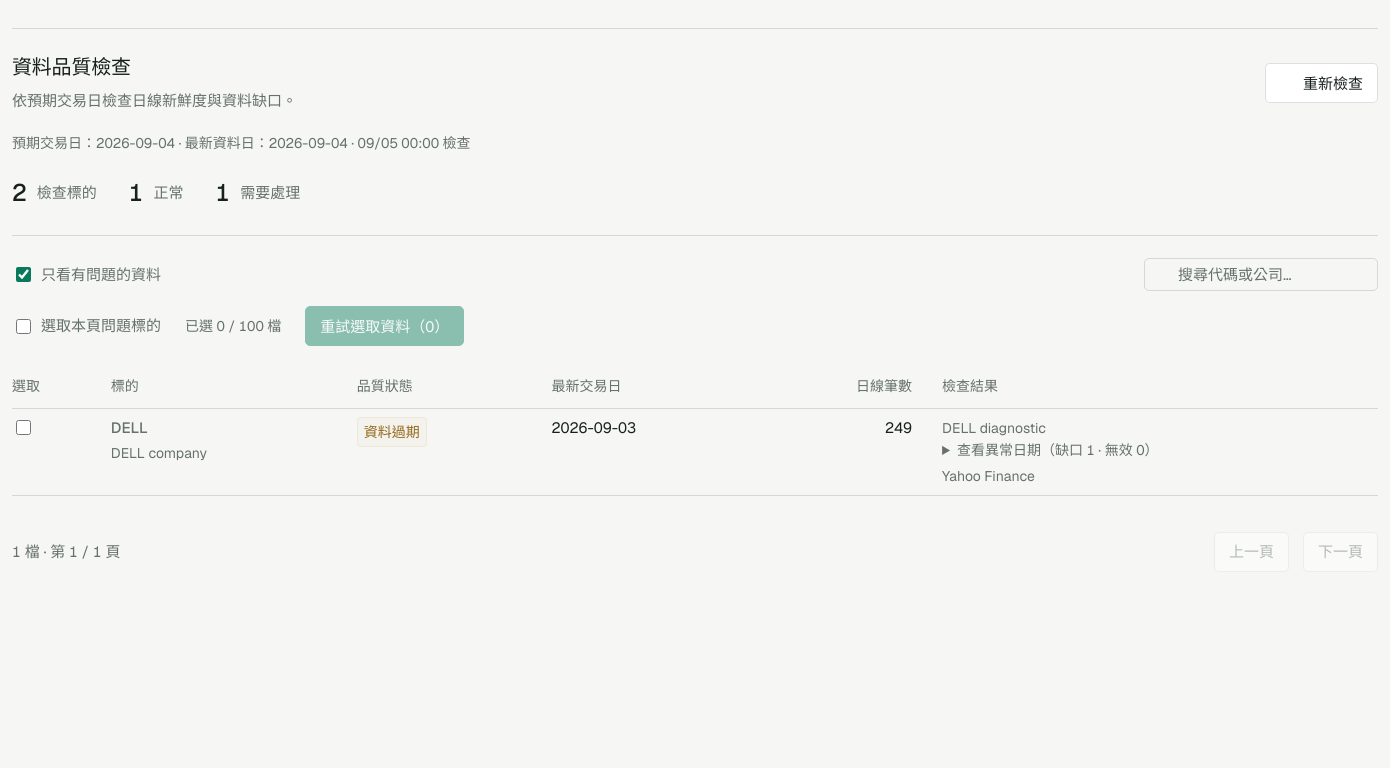
Test: data quality coverage › shows expected session, filters issues, exposes gap dates and opens the selected symbol
Expected: the text "預期交易日：2026-09-04 · 最新資料日：2026-09-04 · 09/05 00:00 檢查" is shown, x1=12 y1=134 x2=471 y2=152
Expected: the button "NVDA" is not shown
Click the heading "查看異常日期（缺口 1 · 無效 0）": (1058, 450) x1=957 y1=441 x2=1158 y2=459
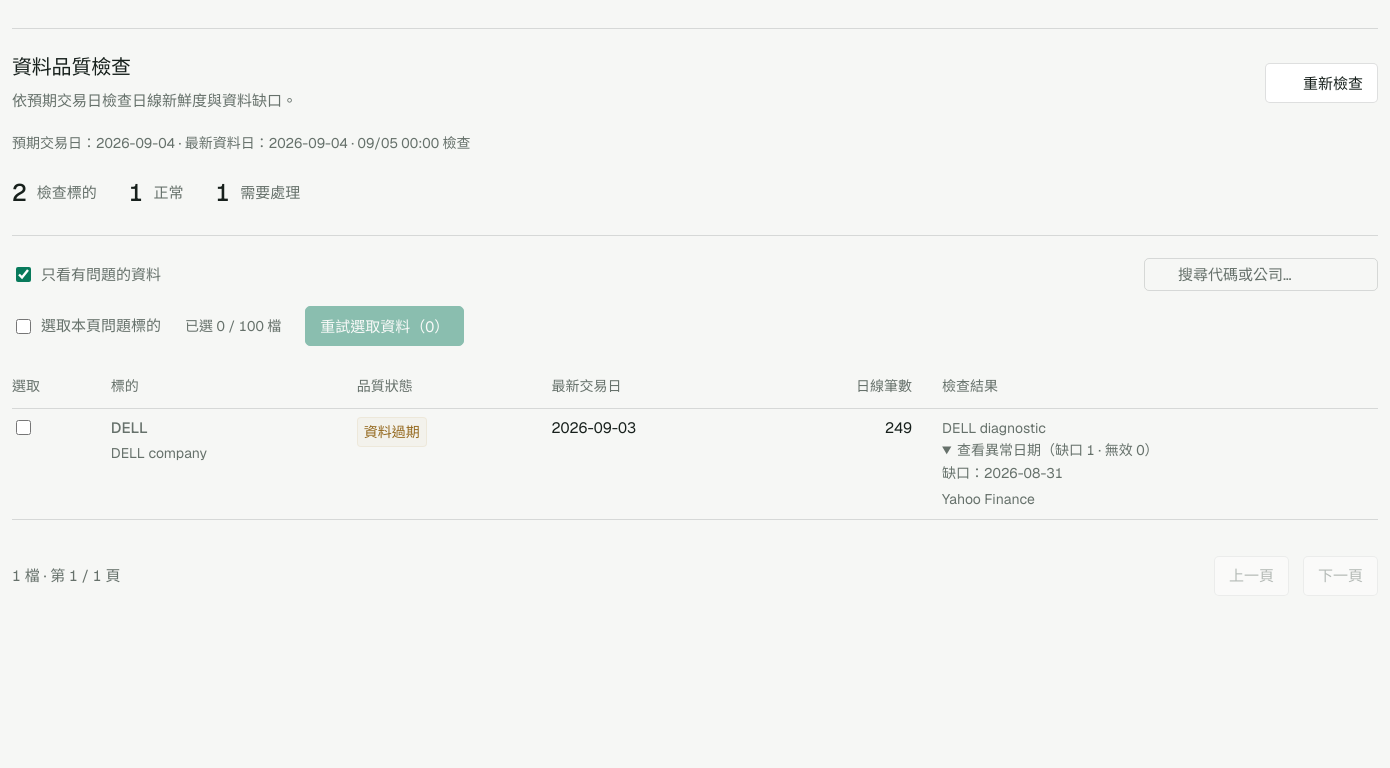
Now the text "缺口：2026-08-31" is shown, box x1=942 y1=464 x2=1063 y2=482
Click the button "DELL": (129, 428) x1=111 y1=417 x2=148 y2=439
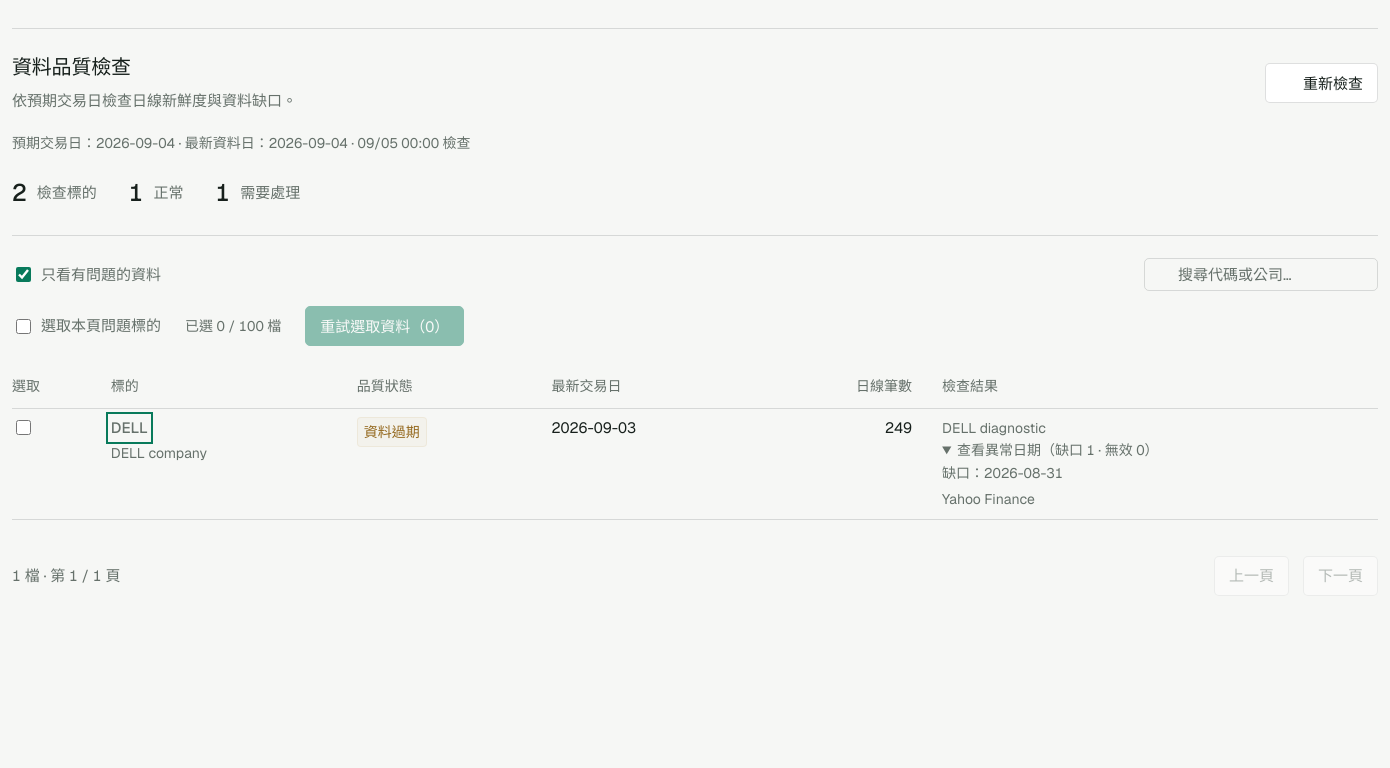
Click the checkbox labelled "只看有問題的資料": (24, 275) x1=16 y1=267 x2=31 y2=282
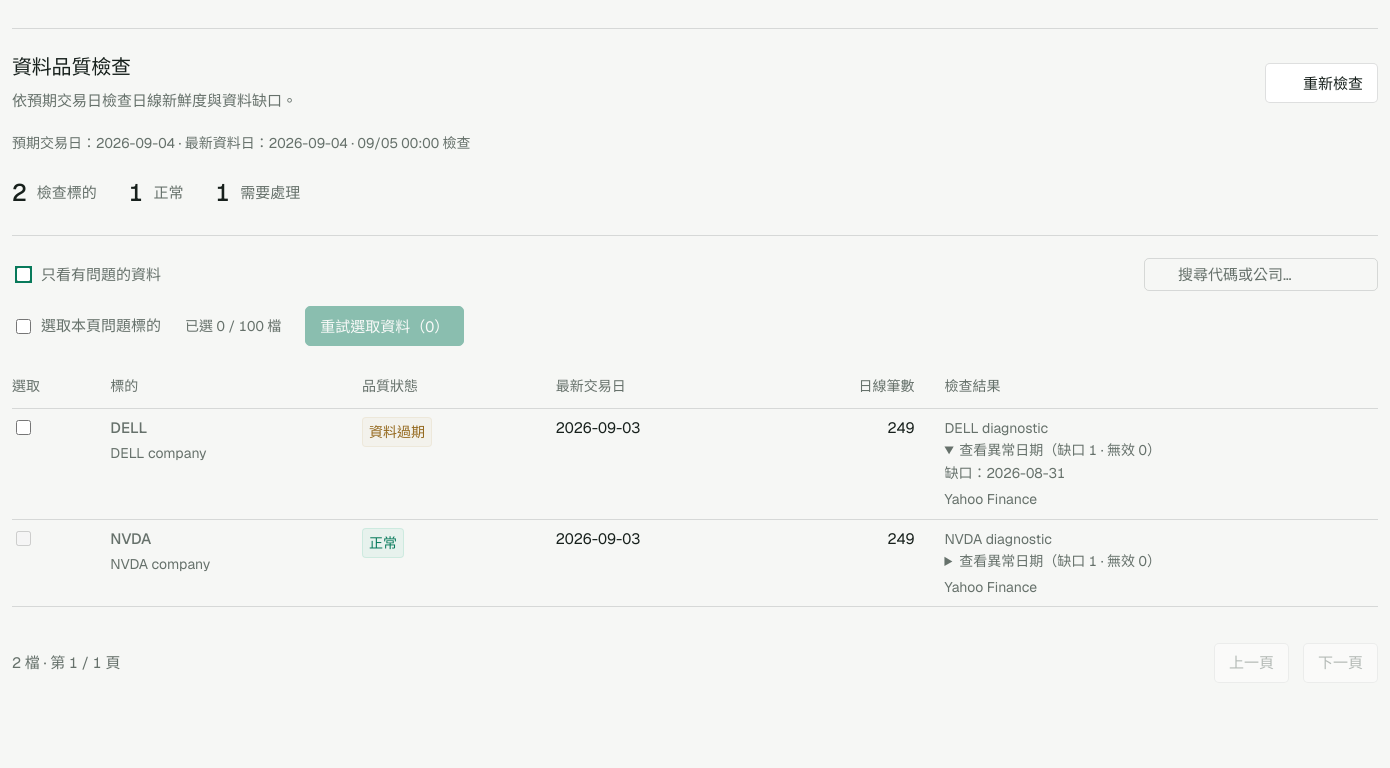
Now the button "NVDA" is shown, box x1=110 y1=528 x2=151 y2=550
Now the checkbox named "選取 NVDA 重試" is disabled, box x1=16 y1=531 x2=31 y2=546
In the field named "搜尋資料品質標的": (1273, 275) x1=1178 y1=260 x2=1368 y2=289, type "nvda"
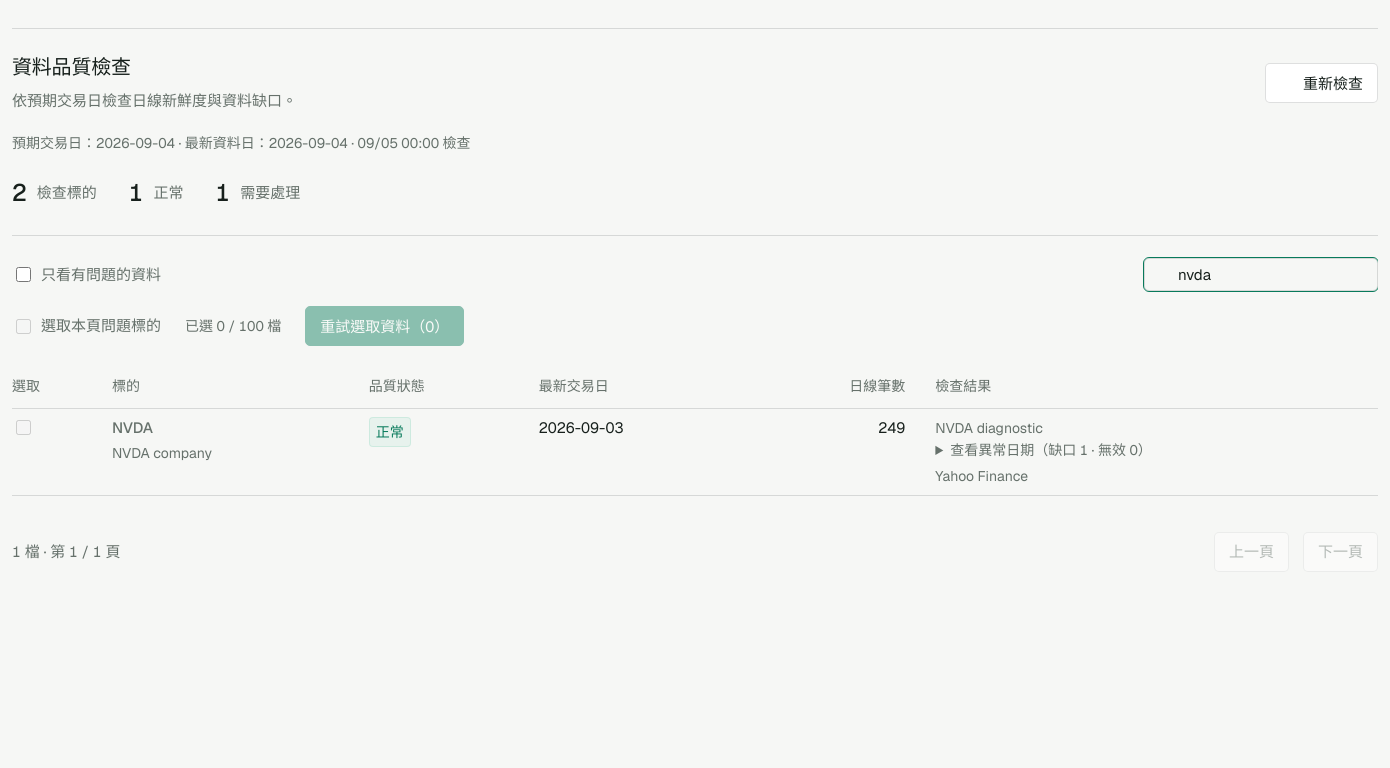
Now the button "DELL" is gone
